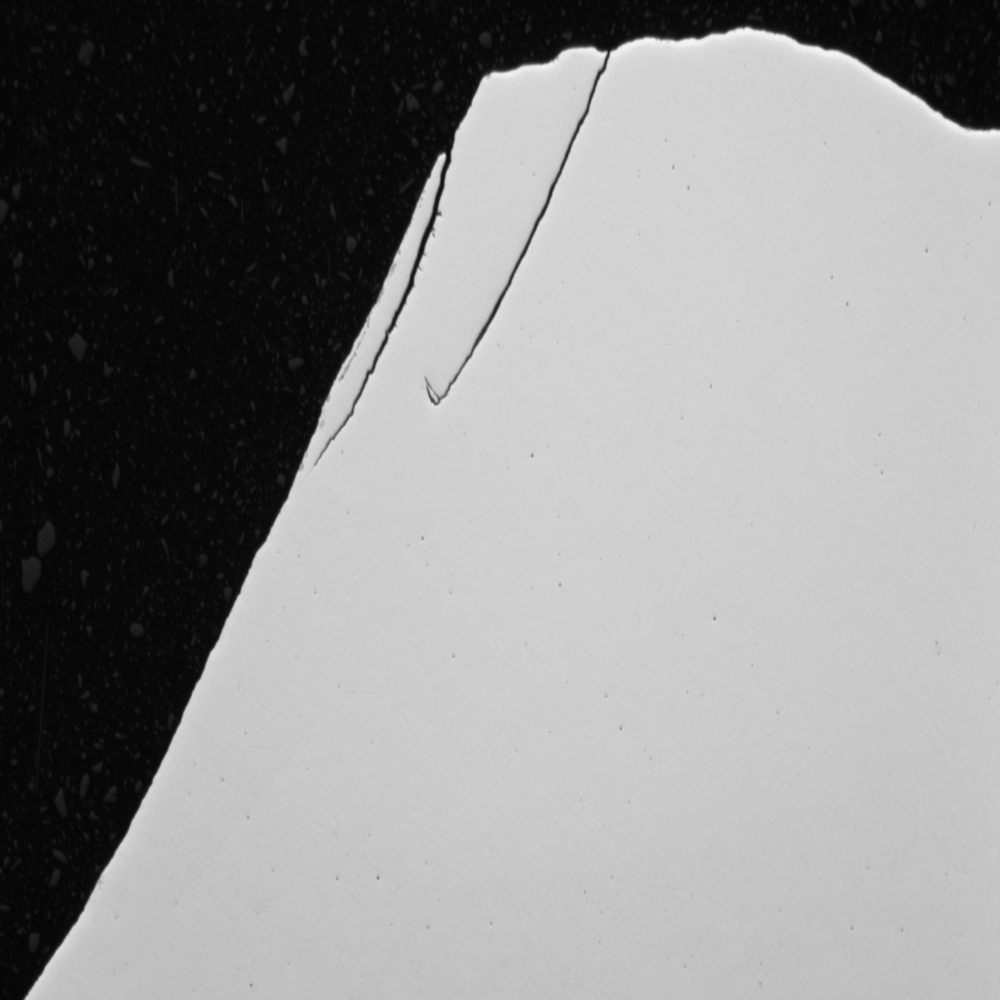crack: (287, 38, 630, 527)
